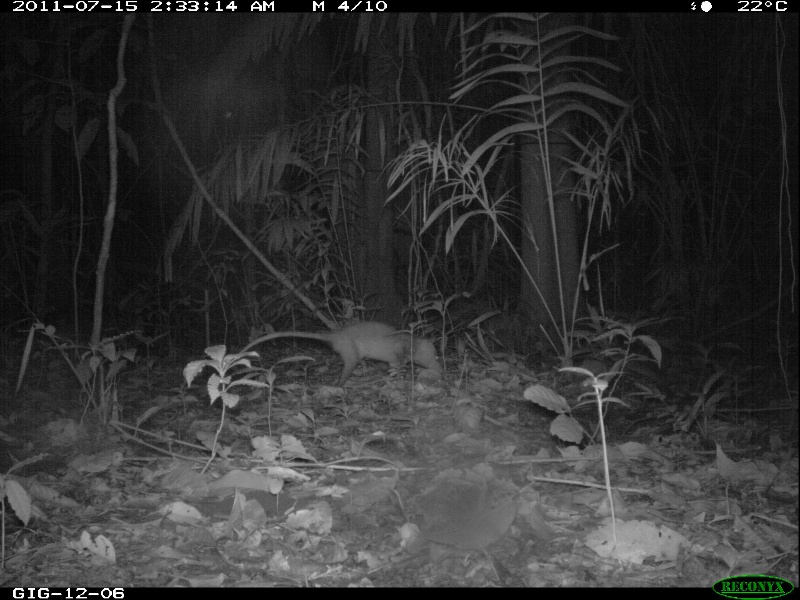opossum: (229, 318, 443, 380)
